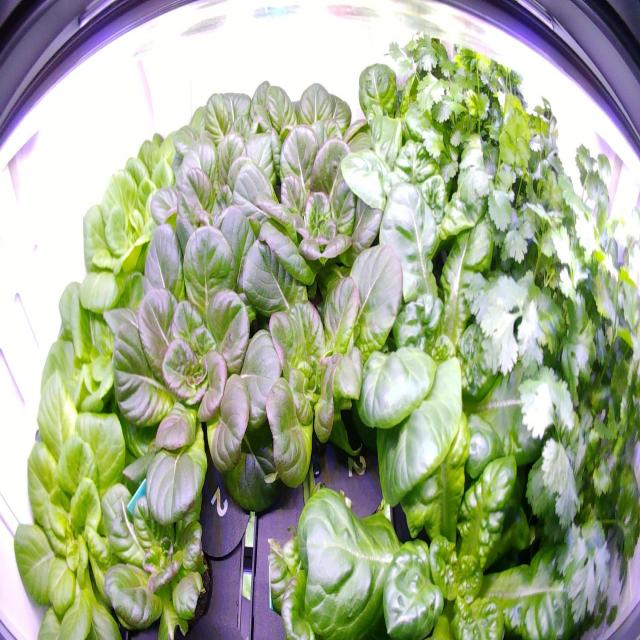young: (262, 363, 592, 639), (322, 173, 578, 515), (106, 217, 290, 538), (230, 216, 436, 488), (5, 364, 171, 640), (22, 252, 190, 514), (330, 48, 508, 266), (235, 116, 399, 339), (72, 113, 208, 344), (138, 117, 286, 319), (245, 63, 375, 245), (97, 458, 224, 636), (163, 68, 284, 229), (97, 96, 208, 252)
